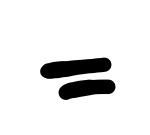eqv: (41, 57, 115, 101)
